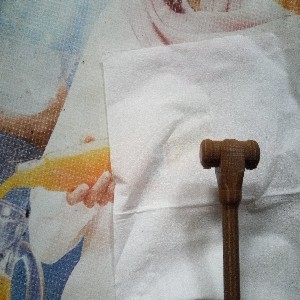palu: (199, 138, 261, 300)
